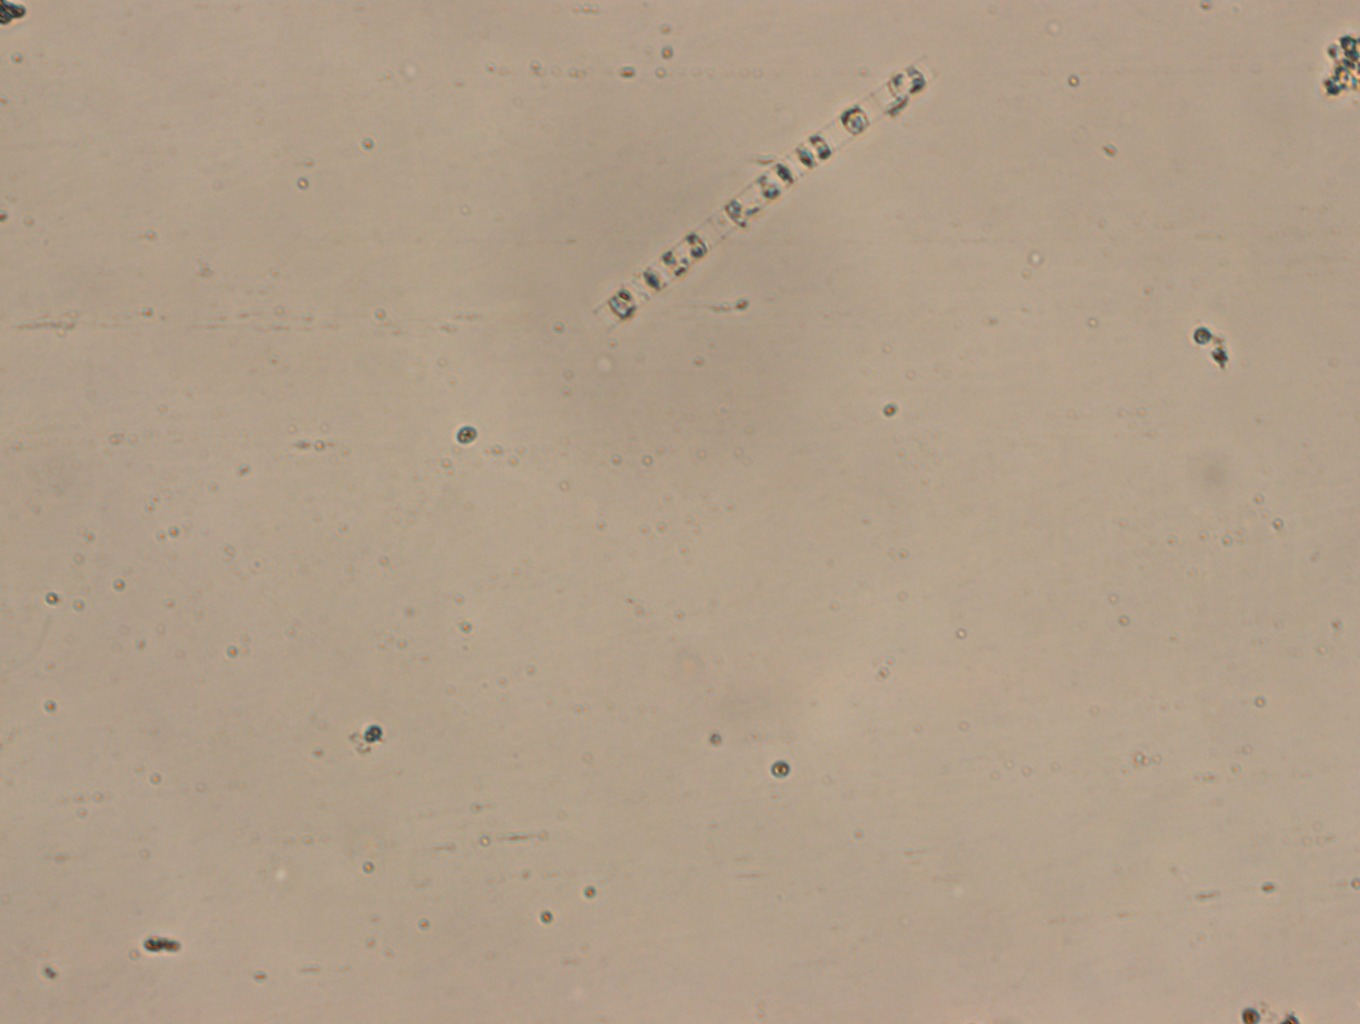skeletonema: (592, 67, 928, 326)
